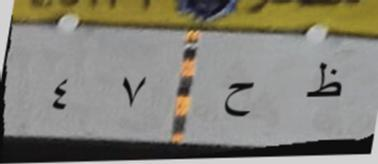4: (42, 69, 76, 120)
7: (112, 70, 154, 115)
7aa: (216, 73, 260, 124)
Thaa: (299, 56, 346, 106)
